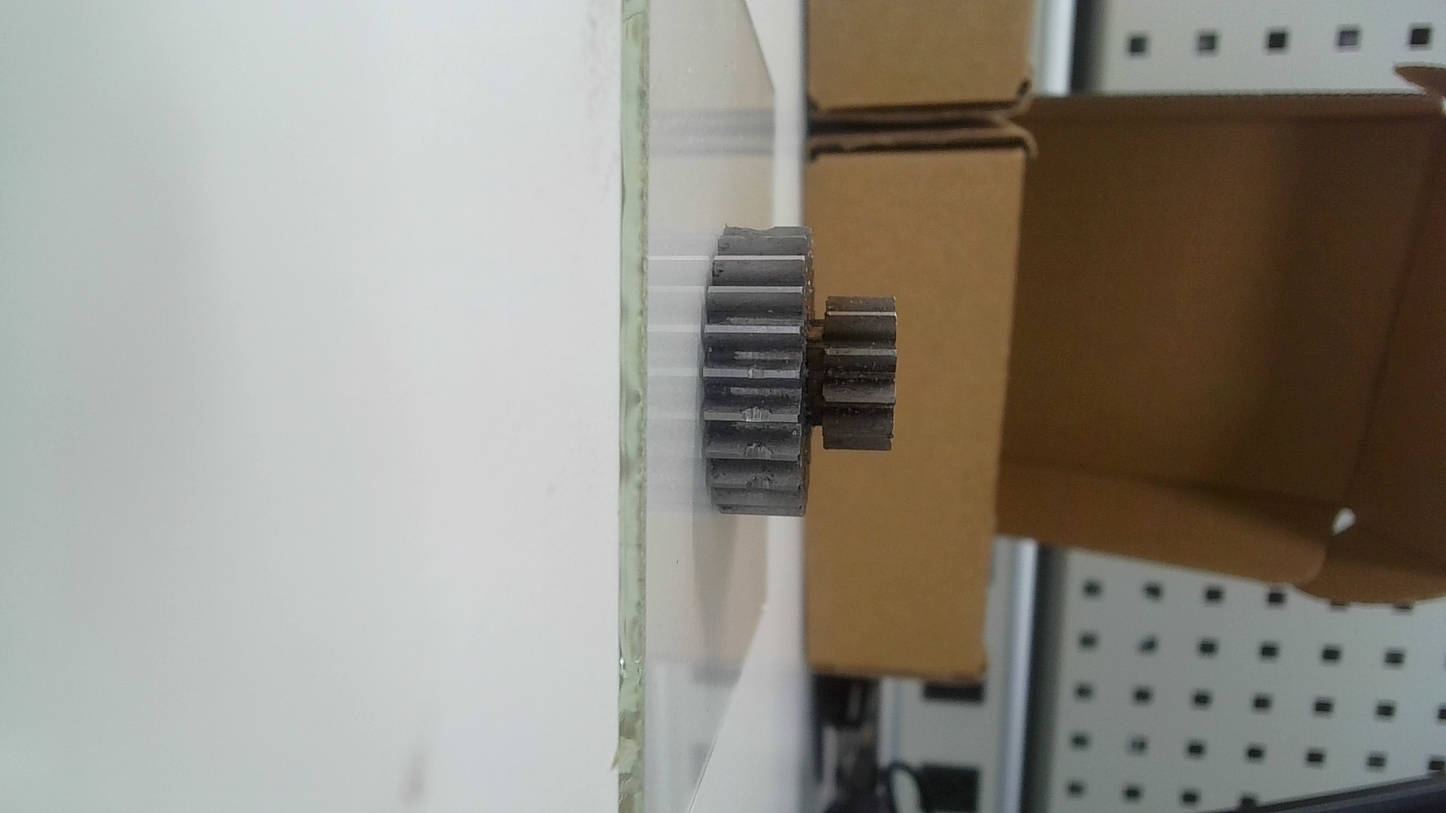gear: (694, 217, 903, 531)
